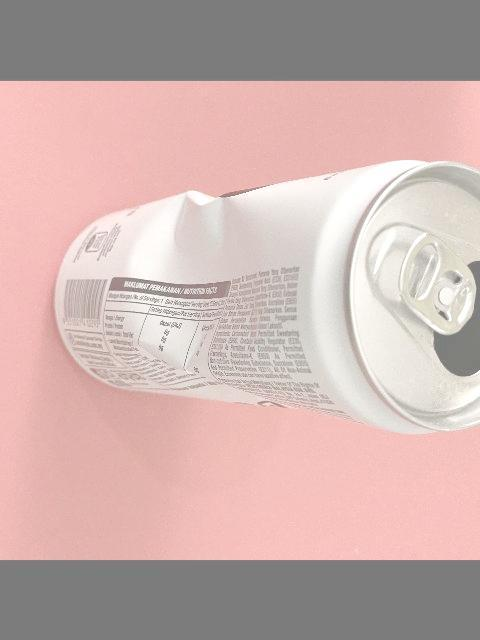drinkcan: (51, 155, 480, 435)
